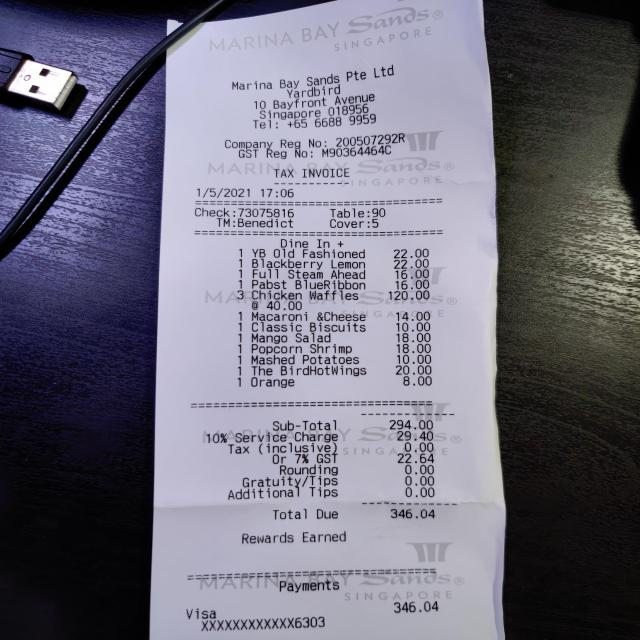bill_region: (199, 247, 453, 526)
